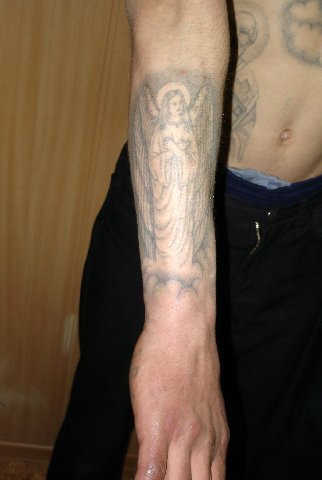tatu1_angel: (132, 76, 217, 279)
